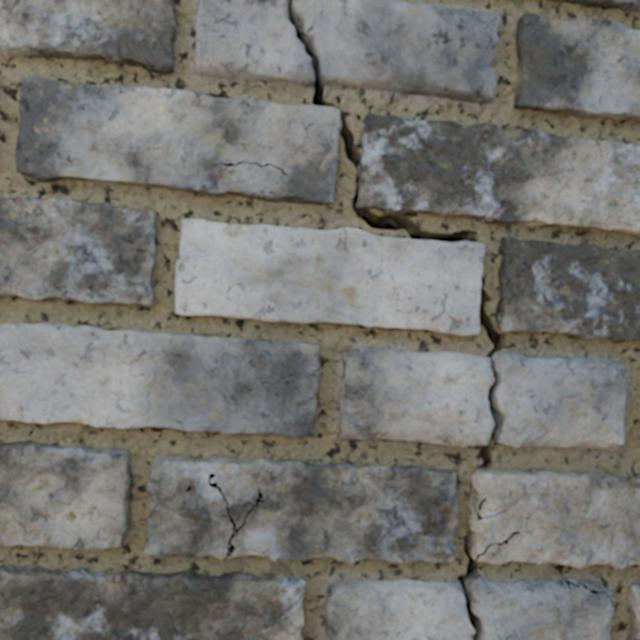broken_brick: (292, 0, 500, 102), (340, 347, 493, 446), (493, 352, 626, 450), (195, 0, 313, 86), (467, 576, 614, 639), (325, 579, 474, 639)
crack: (16, 0, 639, 639), (0, 323, 320, 438), (144, 455, 457, 563), (0, 563, 306, 639), (0, 195, 157, 307), (0, 441, 132, 552), (514, 12, 639, 123), (0, 0, 175, 73), (566, 580, 613, 607), (546, 0, 639, 12), (626, 583, 639, 639), (555, 580, 563, 585)
